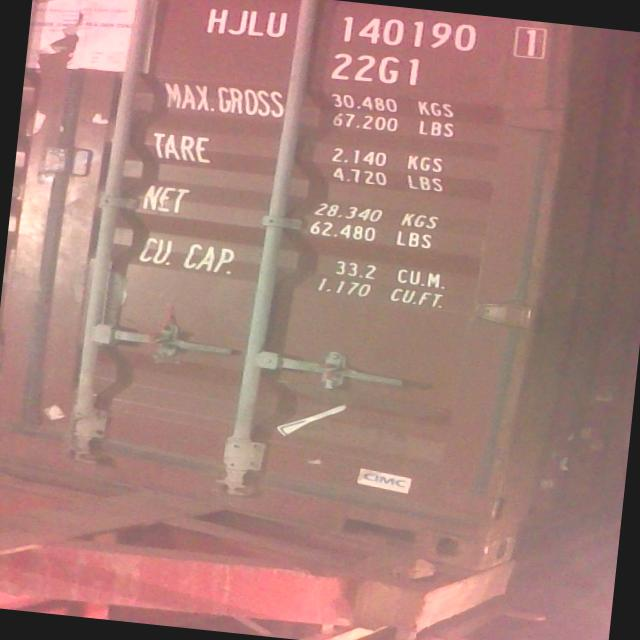seal: (316, 356, 348, 392)
